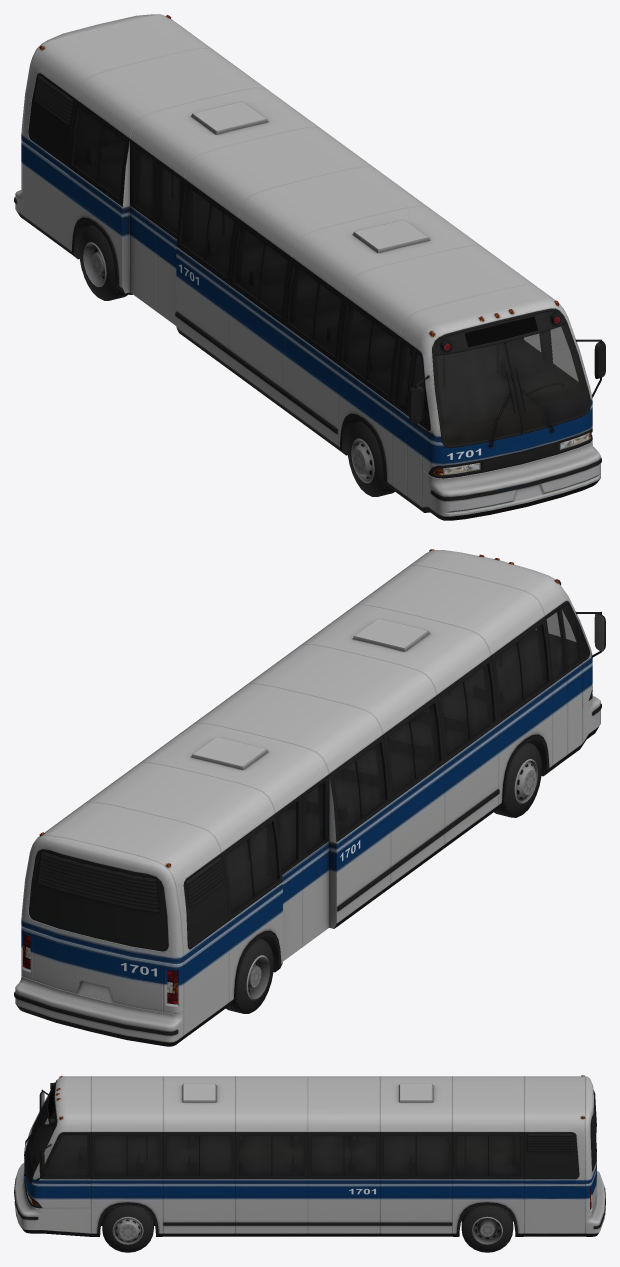
The model's file is cs_citybus.glb.
The picture shows the model from 3 angles, top to bottom: view 1: azimuth 30°, elevation 25°; view 2: azimuth 150°, elevation 25°; view 3: azimuth 270°, elevation 25°; orthographic projection. The views are drawn at different scales.
Parts seen in each view (by area): view 1: citybus; view 2: citybus; view 3: citybus.
Part boxes in pixels (left/top/right/bottom): citybus: left=14, top=14, right=605, bottom=520; citybus: left=14, top=549, right=605, bottom=1046; citybus: left=14, top=1075, right=605, bottom=1252.
Bounding box in the file's own units: 2.54 × 2.52 × 9.95.
5 materials, 4 textured.
